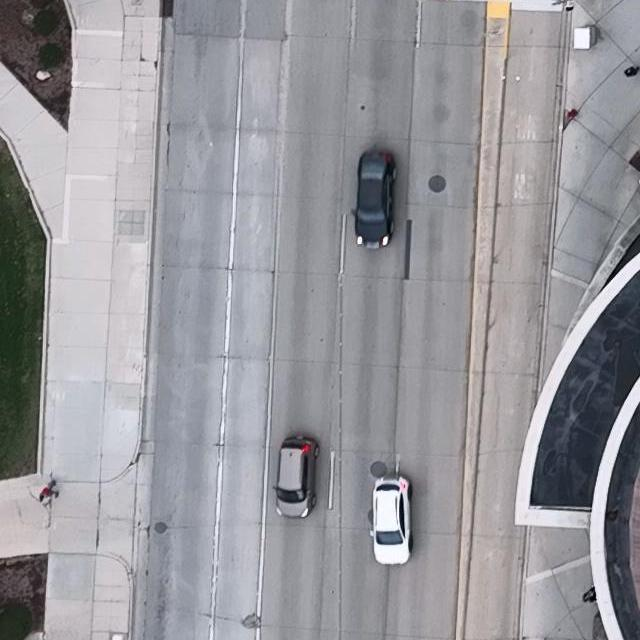car: (351, 148, 397, 250), (271, 433, 321, 519), (368, 476, 412, 565)
